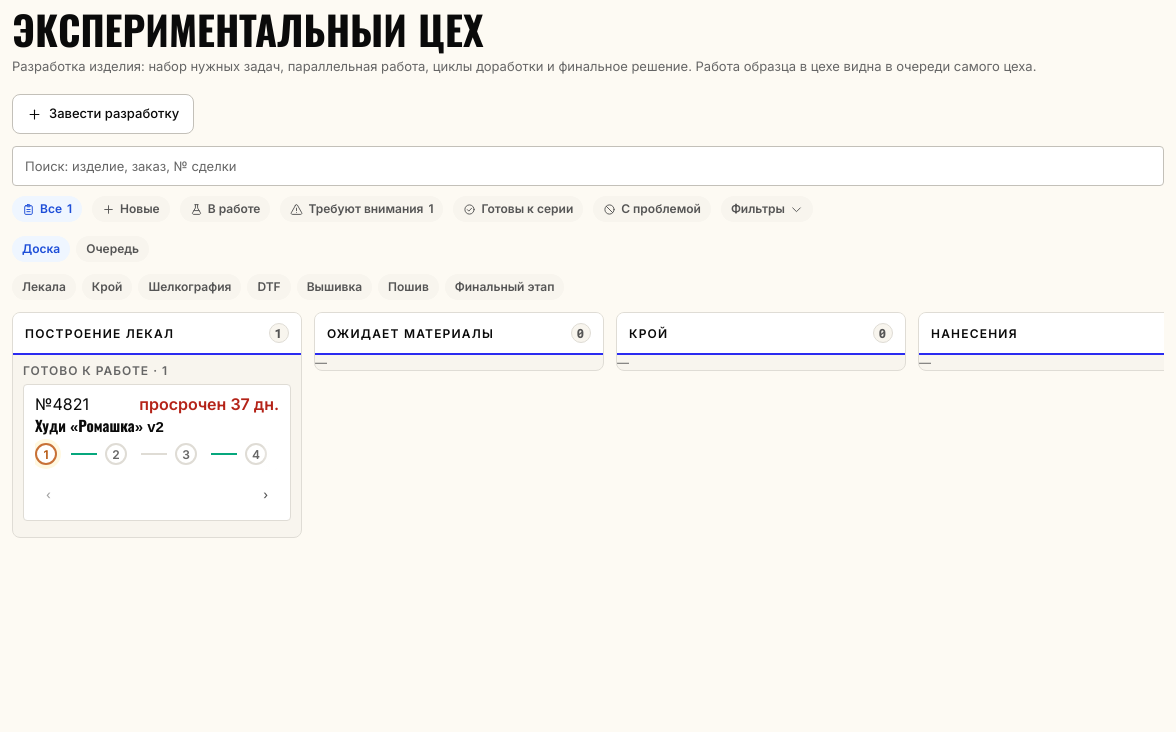
Test: ЭКС — три уровня управления (п. 8) › редкие состояния переехали в «Фильтры», а не исчезли
This screenshot has width=1176, height=732.
Click the button "Фильтры". click: click(767, 209)
box: [721,196,813,222]
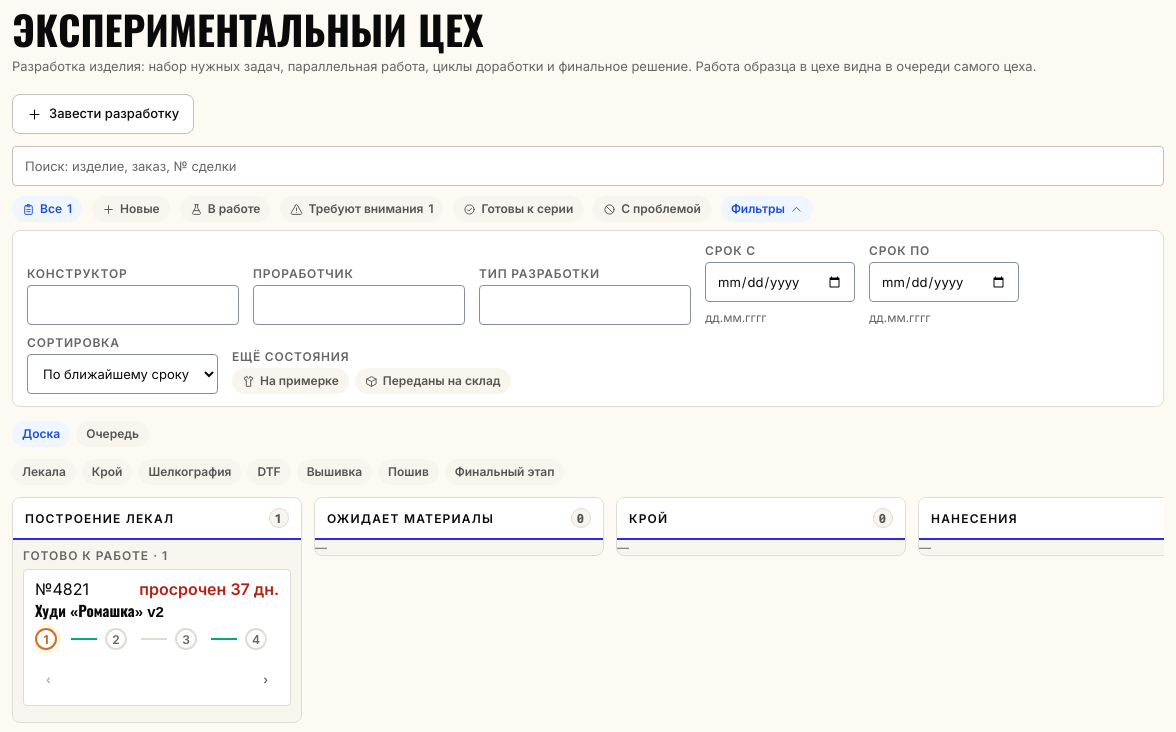
Expected: the element named "Редкие состояния разработки" shows "На примерке", [232,368,349,394]
Expected: the element named "Редкие состояния разработки" shows "Переданы на склад", [355,368,511,394]
